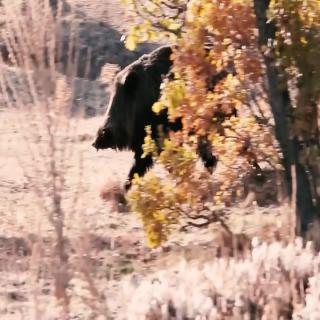Pig: (88, 13, 238, 199)
